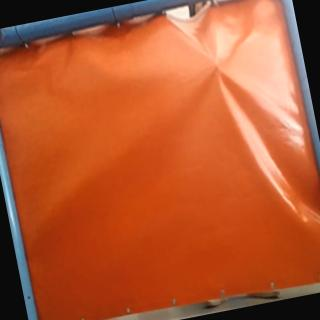Hit-hRxx: (208, 55, 224, 72)
